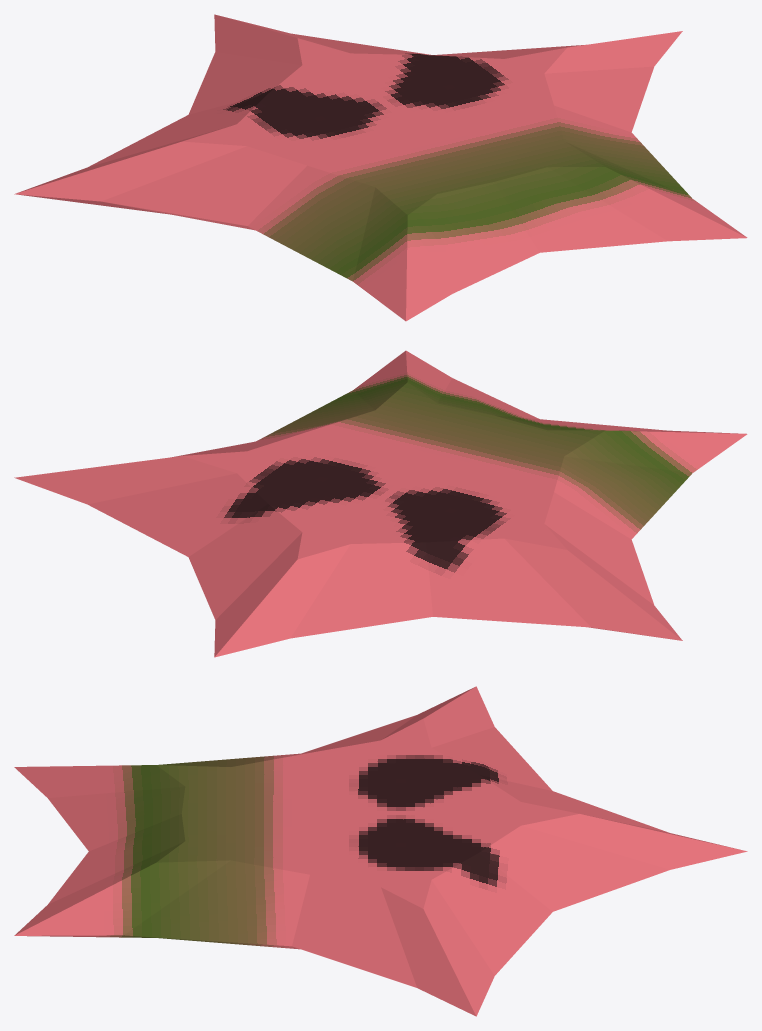
File: Starbomb.gltf
3 renders of one model, top to bottom at view 1: azimuth 30°, elevation 25°; view 2: azimuth 150°, elevation 25°; view 3: azimuth 270°, elevation 25°, orthographic.
Parts seen in each view (by area): view 1: star; view 2: star; view 3: star.
Part boxes in pixels (x1,y1,x2,y2): star: (14,14,747,321); star: (14,350,747,657); star: (14,686,747,1016).
Size of the model in its own units: 1.89 by 0.201 by 1.77.
Materials: 1 (1 with a texture image).
